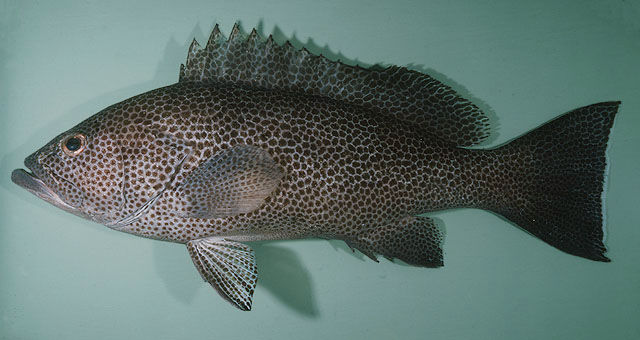fish: (11, 22, 623, 312)
